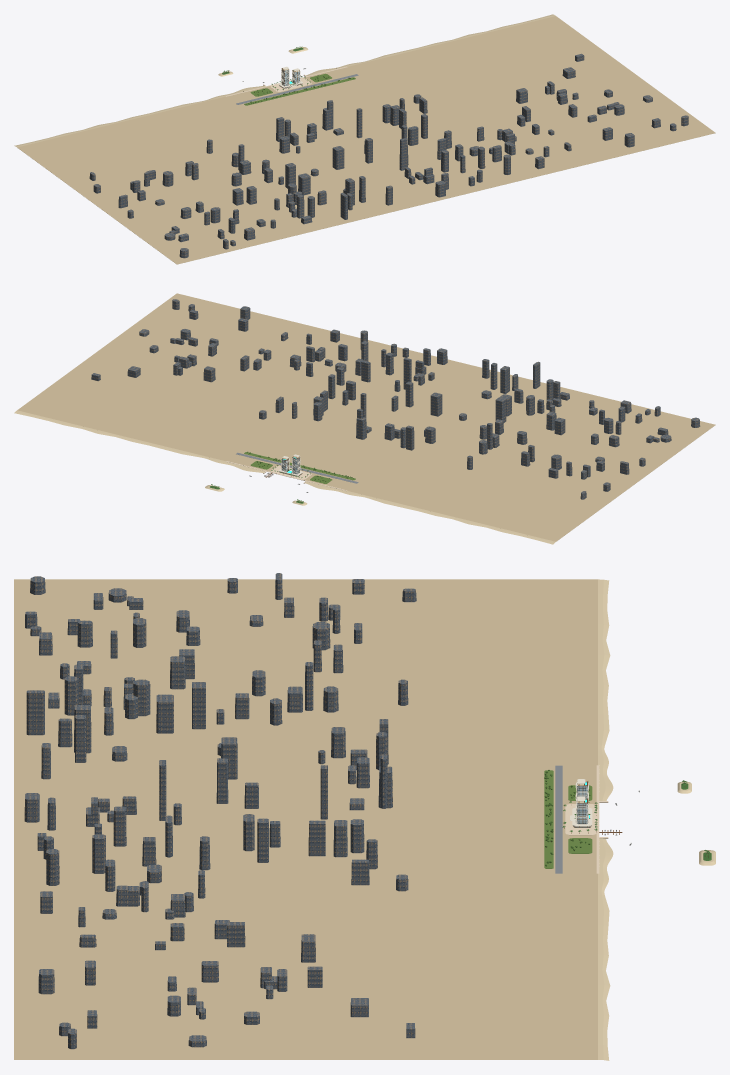
Rendered from azure-crest.glb.
The picture shows the model from 3 angles, top to bottom: view 1: azimuth 30°, elevation 25°; view 2: azimuth 150°, elevation 25°; view 3: azimuth 270°, elevation 25°; orthographic projection. The views are drawn at different scales.
Visible parts, largest first — view 1: Site_Ground, Context_City, Site_Beach, Site_Lawns; view 2: Site_Ground, Context_City, Site_Beach, Site_Lawns; view 3: Site_Ground, Context_City, Site_Beach, Site_Lawns, Site_Road.
Boxes of the visible parts, <box> form: Site_Ground: <box>17,16,715,264</box>; Context_City: <box>89,53,688,258</box>; Site_Beach: <box>14,14,555,147</box>; Site_Lawns: <box>244,73,355,105</box>; Site_Ground: <box>17,293,715,541</box>; Context_City: <box>91,299,700,499</box>; Site_Beach: <box>14,410,555,544</box>; Site_Lawns: <box>244,452,355,483</box>; Site_Ground: <box>14,579,597,1059</box>; Context_City: <box>24,573,416,1049</box>; Site_Beach: <box>598,579,613,1060</box>; Site_Lawns: <box>544,770,592,868</box>; Site_Road: <box>555,765,562,873</box>.
Bounding box in the file's own units: 800 × 43.62 × 494.
Materials: 30 (5 with a texture image).
